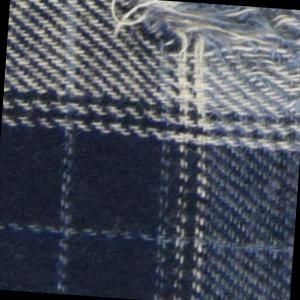Damage: (98, 1, 300, 109)
